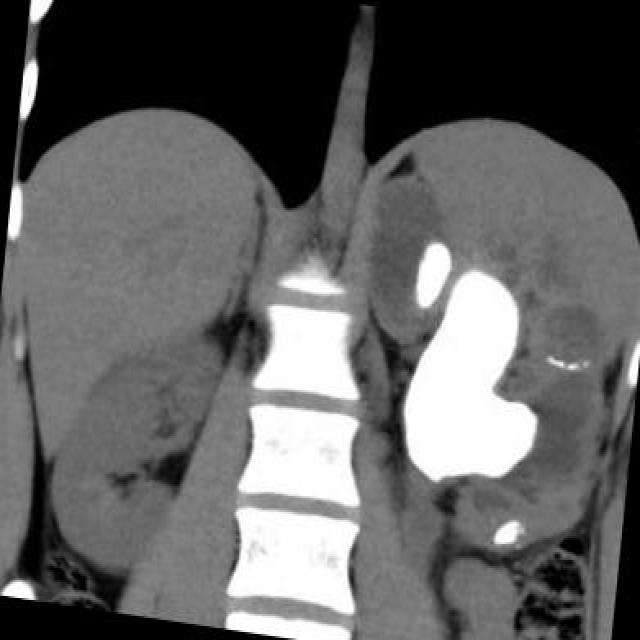Tas_Var: (390, 257, 558, 505), (410, 230, 456, 316), (484, 512, 530, 556), (546, 354, 564, 370), (564, 359, 582, 373), (580, 356, 592, 370)
